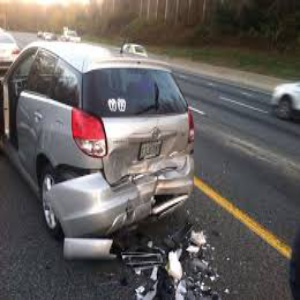bumper: (45, 173, 204, 239)
